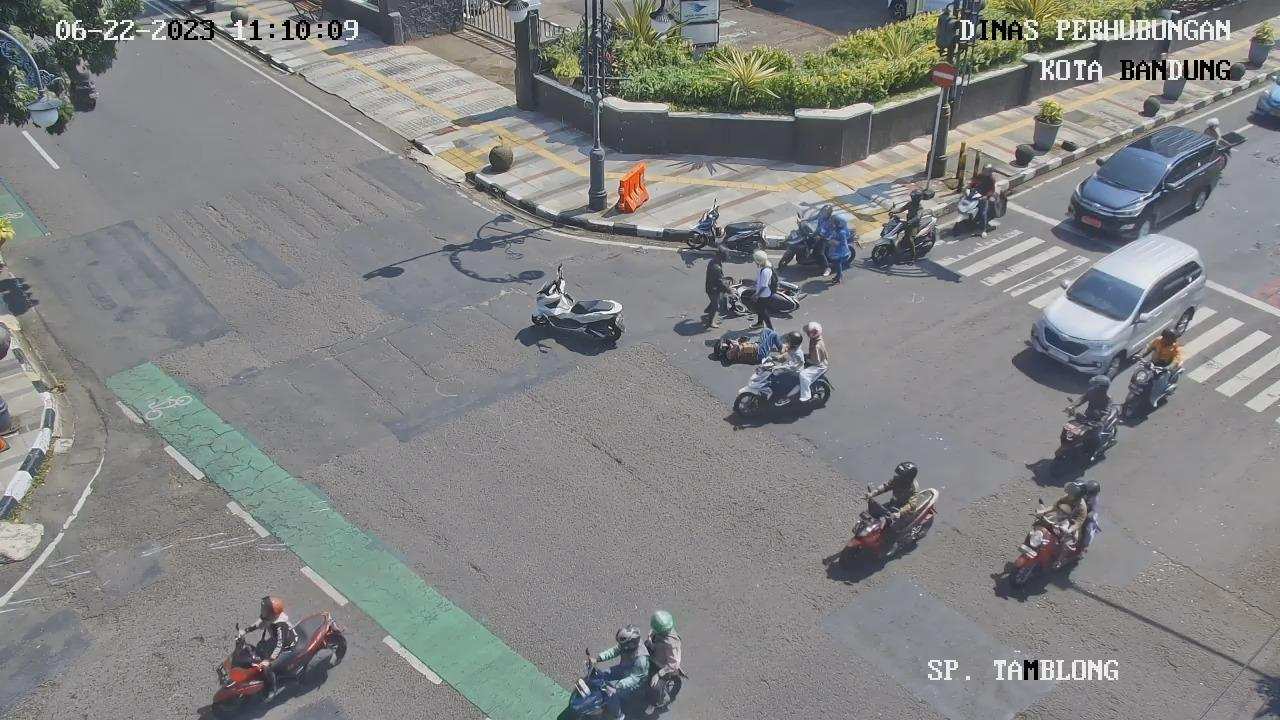accident: (708, 328, 792, 367)
